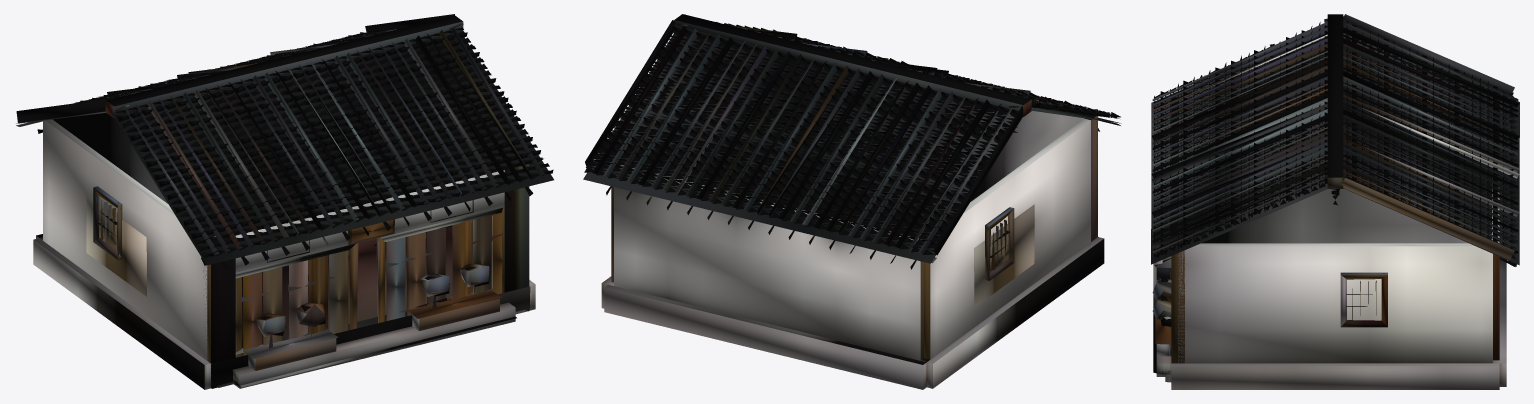
The model's file is lib_lib_house_b1.far.glb.
3 views of the same model, side by side, from view 1: azimuth 30°, elevation 25°; view 2: azimuth 150°, elevation 25°; view 3: azimuth 270°, elevation 25° (orthographic). The views are drawn at different scales.
Visible parts, largest first — view 1: lo; view 2: lo; view 3: lo.
Part boxes in pixels (x1,y1,x2,y2): lo: (16,14,553,389); lo: (583,14,1121,389); lo: (1151,14,1519,389).
Bounding box in the file's own units: 7.38 × 4.55 × 7.01.
Materials: 1 (1 with a texture image).
